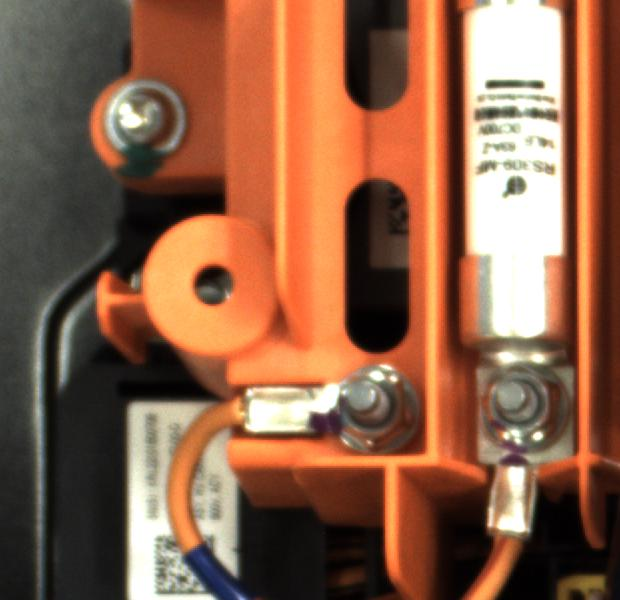screw_m: (92, 71, 198, 170)
screw_s: (314, 353, 417, 458), (469, 359, 583, 453)
